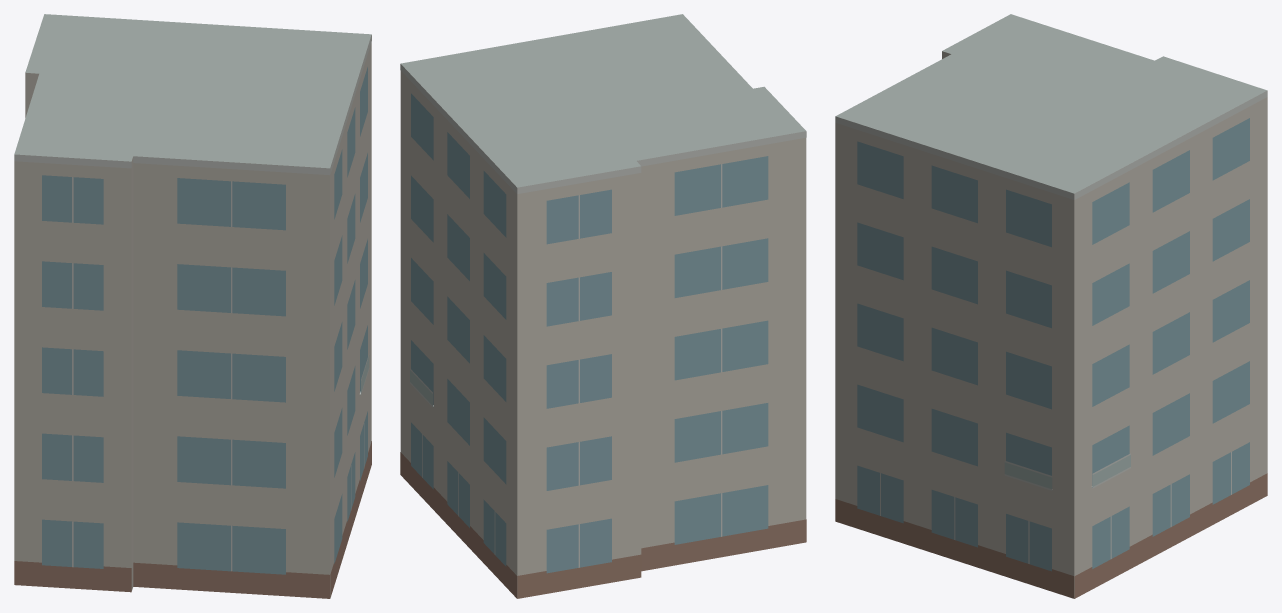
The model's file is survey-upis-32631614.glb.
The picture shows the model from 3 angles, left to right: view 1: azimuth 30°, elevation 25°; view 2: azimuth 150°, elevation 25°; view 3: azimuth 270°, elevation 25°; orthographic projection. The views are drawn at different scales.
Parts seen in each view (by area): view 1: survey-upis-32631614.tmp; view 2: survey-upis-32631614.tmp; view 3: survey-upis-32631614.tmp.
Part boxes in pixels (<box>): survey-upis-32631614.tmp: <box>14,14,371,598</box>; survey-upis-32631614.tmp: <box>400,14,806,598</box>; survey-upis-32631614.tmp: <box>835,14,1267,598</box>.
Bounding box in the file's own units: 14.61 × 15.35 × 14.85.
